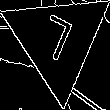L_SW: (35, 10, 80, 70)
